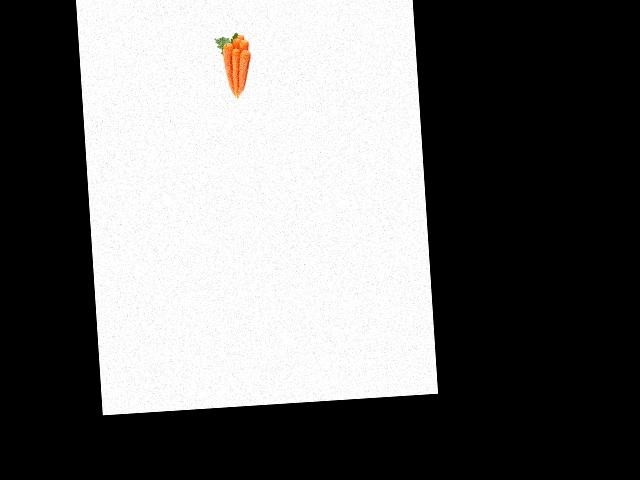carrot: (236, 32, 244, 41)
